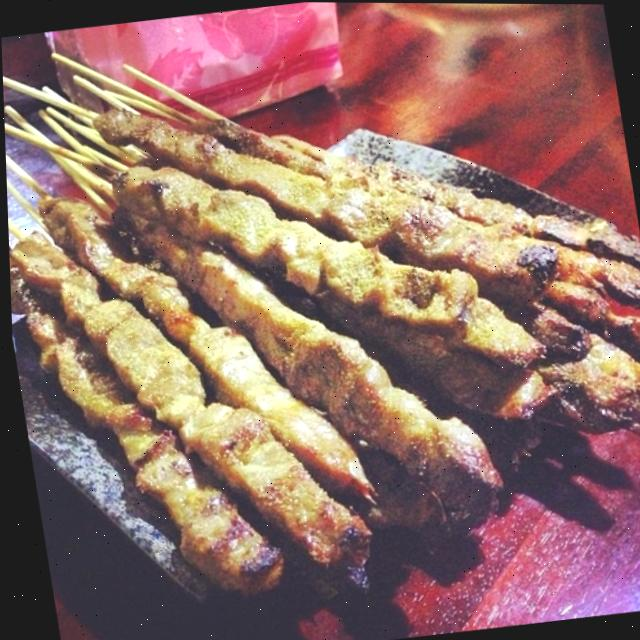烧串烤肉: (9, 30, 640, 636)
